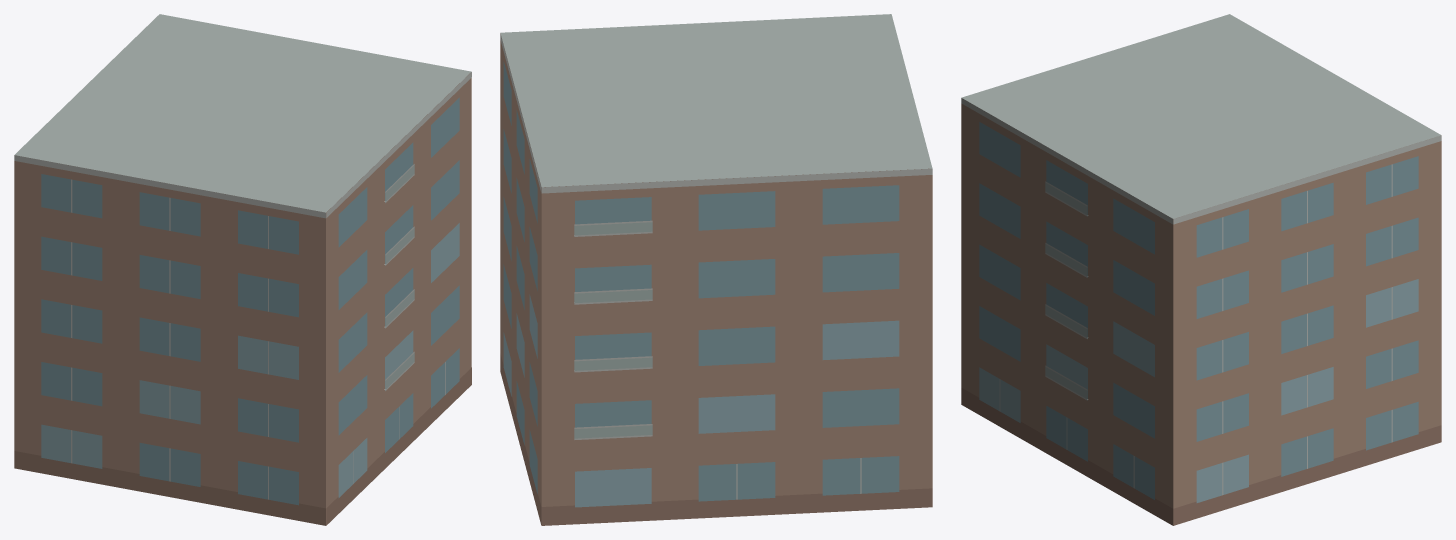
The model's file is residential-8f37e090-39c4-401e-b3f6-37a356f62061.glb.
The picture shows the model from 3 angles, left to right: view 1: azimuth 30°, elevation 25°; view 2: azimuth 150°, elevation 25°; view 3: azimuth 270°, elevation 25°; orthographic projection. The views are drawn at different scales.
Visible parts, largest first — view 1: residential-8f37e090-39c4-401e-b3f6-37a356f62061.tmp; view 2: residential-8f37e090-39c4-401e-b3f6-37a356f62061.tmp; view 3: residential-8f37e090-39c4-401e-b3f6-37a356f62061.tmp.
Part boxes in pixels (box(x1,y1,x2,y2)): residential-8f37e090-39c4-401e-b3f6-37a356f62061.tmp: box(14, 14, 471, 525); residential-8f37e090-39c4-401e-b3f6-37a356f62061.tmp: box(500, 14, 932, 525); residential-8f37e090-39c4-401e-b3f6-37a356f62061.tmp: box(961, 14, 1441, 525).
Size of the model in its own units: 18.91 by 13.2 by 18.73.
